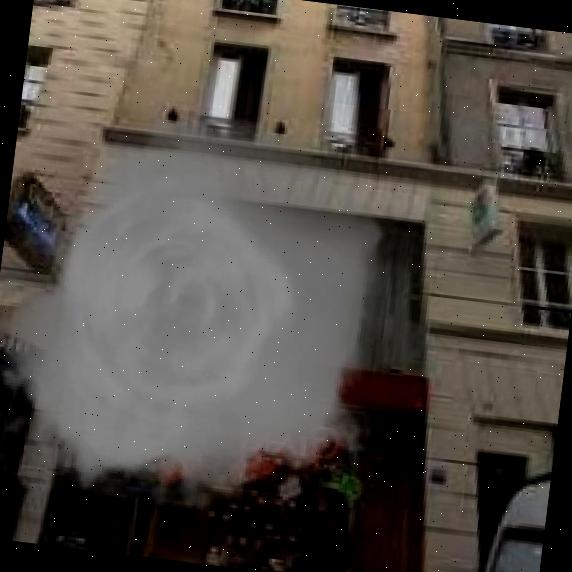smoke: (0, 90, 415, 530)
